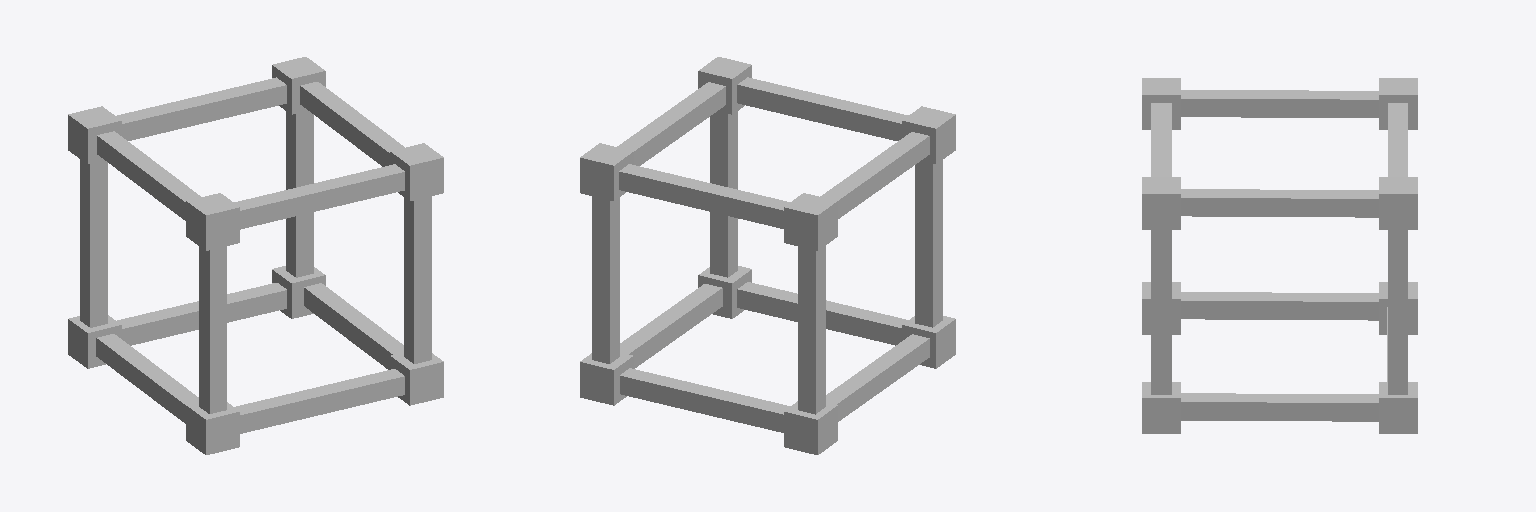
File: HollowCube.obj
The picture shows the model from 3 angles: view 1: azimuth 30°, elevation 25°; view 2: azimuth 150°, elevation 25°; view 3: azimuth 270°, elevation 25°; orthographic projection.
Parts seen in each view (by area): view 1: pCube14, pCube15, pCube12, pCube13, pCube9, pCube10, pCube16, pCube11, pCube20, pCube17, pCube18, pCube19 (+8 smaller); view 2: pCube12, pCube14, pCube16, pCube13, pCube11, pCube9, pCube15, pCube10, pCube20, pCube17, pCube18, pCube19 (+8 smaller); view 3: pCube19, pCube18, pCube20, pCube17, pCube10, pCube11, pCube5, pCube7, pCube3, pCube2, pCube14, pCube6 (+4 smaller).
Boxes of the visible parts, box(x1,y1,x2,y2) form: pCube14: box(234, 164, 404, 229); pCube15: box(235, 369, 404, 433); pCube12: box(116, 77, 286, 140); pCube13: box(80, 159, 107, 327); pCube9: box(199, 246, 226, 413); pCube10: box(404, 196, 431, 363); pCube16: box(117, 283, 286, 345); pCube11: box(286, 111, 313, 277); pCube20: box(96, 334, 198, 423); pCube17: box(97, 131, 200, 220); pCube18: box(300, 82, 404, 166); pCube19: box(304, 283, 403, 369); pCube12: box(619, 164, 789, 228); pCube14: box(737, 77, 908, 140); pCube16: box(620, 368, 790, 432); pCube13: box(798, 246, 825, 414); pCube11: box(592, 196, 619, 363); pCube9: box(915, 160, 942, 327); pCube15: box(737, 282, 907, 345); pCube10: box(710, 111, 737, 277); pCube20: box(826, 334, 929, 421); pCube17: box(820, 132, 929, 218); pCube18: box(617, 82, 725, 165); pCube19: box(620, 284, 722, 368); pCube19: box(1181, 393, 1378, 421); pCube18: box(1181, 189, 1378, 217); pCube20: box(1181, 292, 1378, 320); pCube17: box(1181, 90, 1378, 117); pCube10: box(1151, 230, 1171, 394); pCube11: box(1388, 230, 1407, 394); pCube5: box(1142, 177, 1180, 229); pCube7: box(1379, 177, 1417, 229); pCube3: box(1379, 382, 1417, 433); pCube2: box(1142, 382, 1180, 433); pCube14: box(1151, 103, 1171, 176); pCube6: box(1379, 78, 1417, 129).
Size of the model in its own units: 6.97 by 6.72 by 7.01.